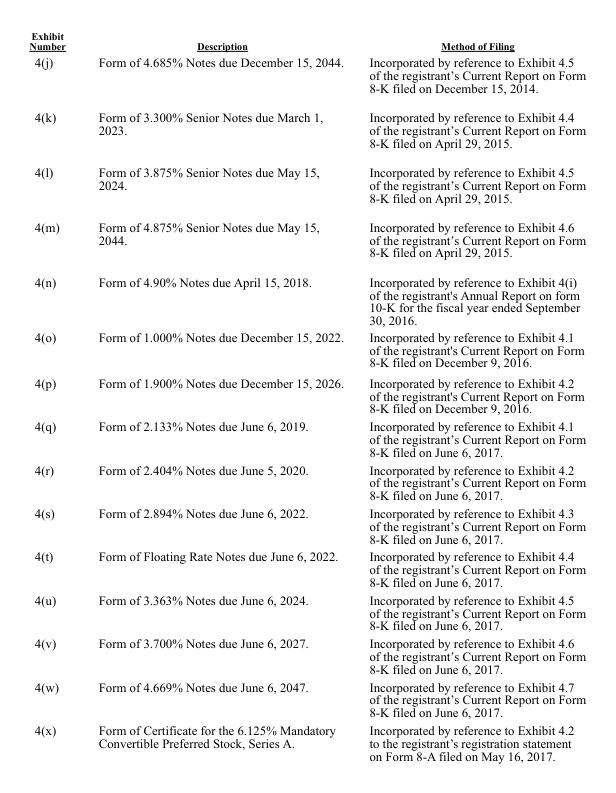table: (28, 29, 585, 762)
table column: (81, 29, 355, 762), (355, 29, 585, 762), (28, 29, 81, 762)
table column header: (28, 29, 585, 52)
table row: (28, 266, 585, 328), (28, 102, 585, 157), (28, 211, 585, 266), (28, 157, 585, 211), (28, 52, 585, 102), (28, 328, 585, 372), (28, 372, 585, 416), (28, 416, 585, 460), (28, 503, 585, 547), (28, 590, 585, 634), (28, 460, 585, 503), (28, 547, 585, 590), (28, 634, 585, 677), (28, 677, 585, 720), (28, 720, 585, 762), (28, 29, 585, 52)
